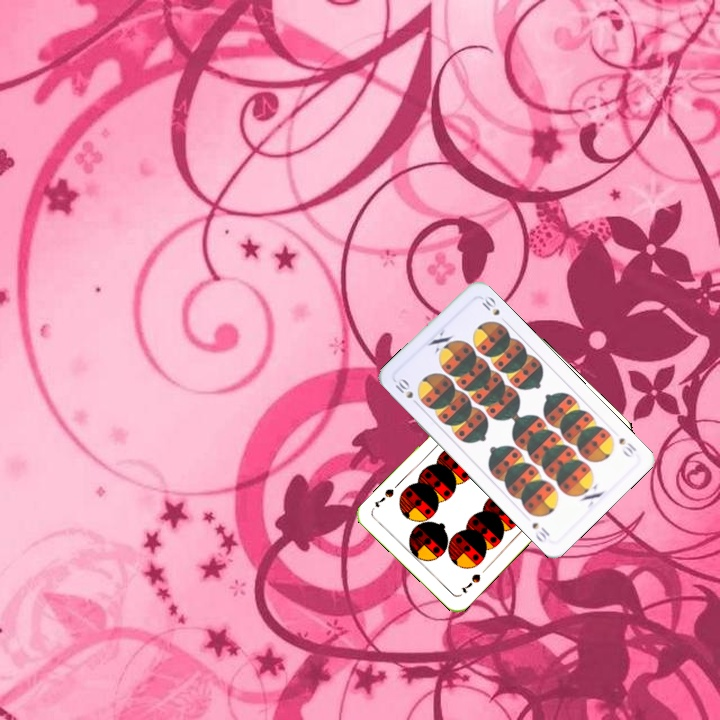S10: (389, 374, 422, 409), (615, 434, 639, 460)
S7: (458, 569, 483, 595)
